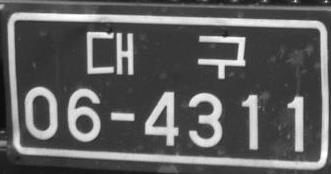0: (23, 85, 58, 140)
1: (235, 93, 271, 150), (280, 94, 315, 152)
3: (187, 91, 224, 148)
4: (144, 90, 179, 145)
6: (66, 87, 101, 141)
대구_D: (85, 29, 247, 79)
